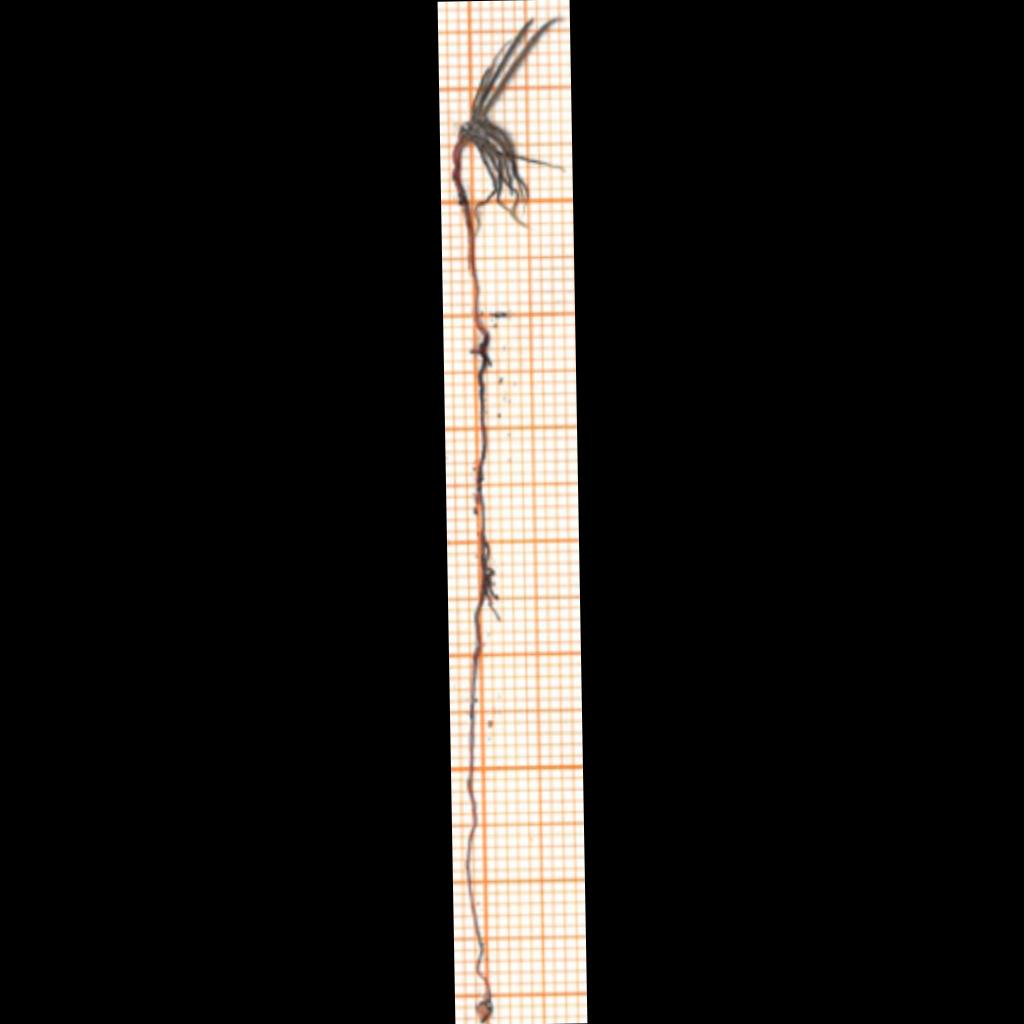flowerPinus: (458, 19, 557, 214)
rootPinus: (466, 334, 497, 1020)
stemPinus: (452, 134, 484, 333)
